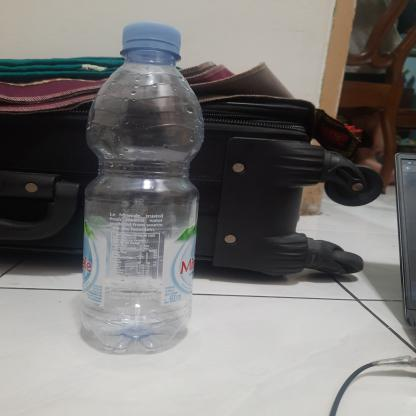bottle: (72, 20, 204, 356)
